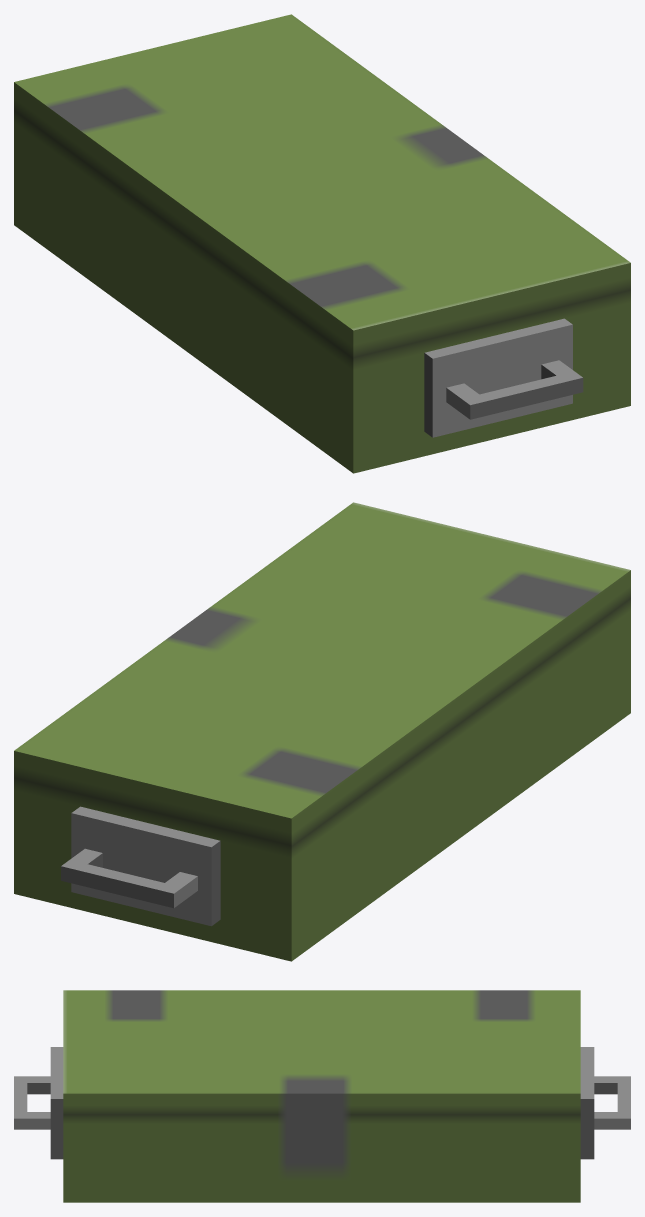
File: SM_Prop_Metal_Box_01.fbx
3 views of the same model, one above another, from view 1: azimuth 30°, elevation 25°; view 2: azimuth 150°, elevation 25°; view 3: azimuth 270°, elevation 25° (orthographic). The views are drawn at different scales.
Parts seen in each view (by area): view 1: SM_Prop_Metal_Box_01; view 2: SM_Prop_Metal_Box_01; view 3: SM_Prop_Metal_Box_01.
Part boxes in pixels (box(x1,y1,x2,y2)): SM_Prop_Metal_Box_01: box(14, 14, 630, 473); SM_Prop_Metal_Box_01: box(14, 502, 630, 961); SM_Prop_Metal_Box_01: box(14, 990, 630, 1202).
Bounding box in the file's own units: 0.969 × 0.4774 × 2.45.
